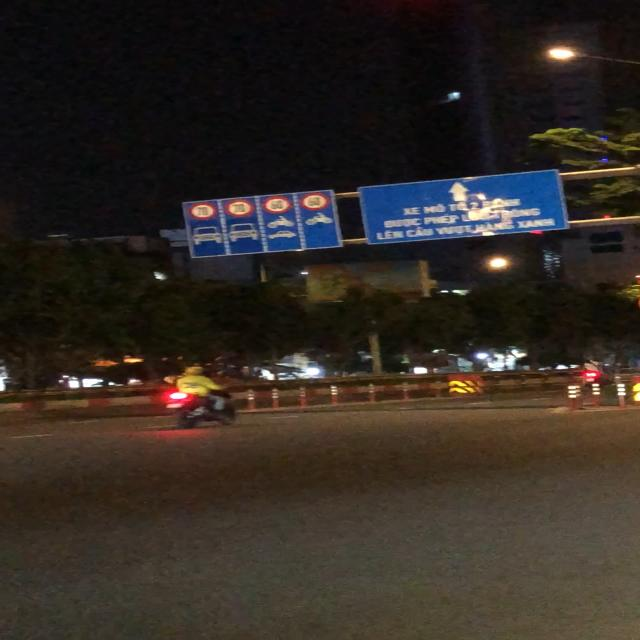Bien bao toc do toi da cho phep: (222, 199, 256, 218), (298, 193, 330, 211), (262, 196, 294, 214), (188, 202, 217, 220)
